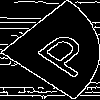P: (24, 25, 100, 81)
